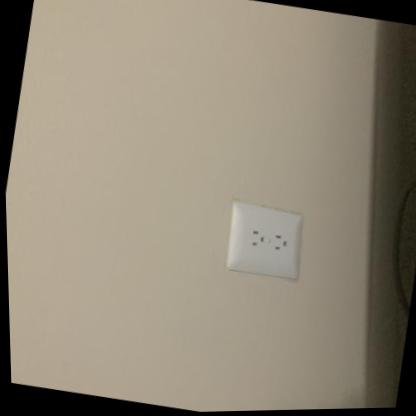OUTLET: (218, 196, 310, 285)
